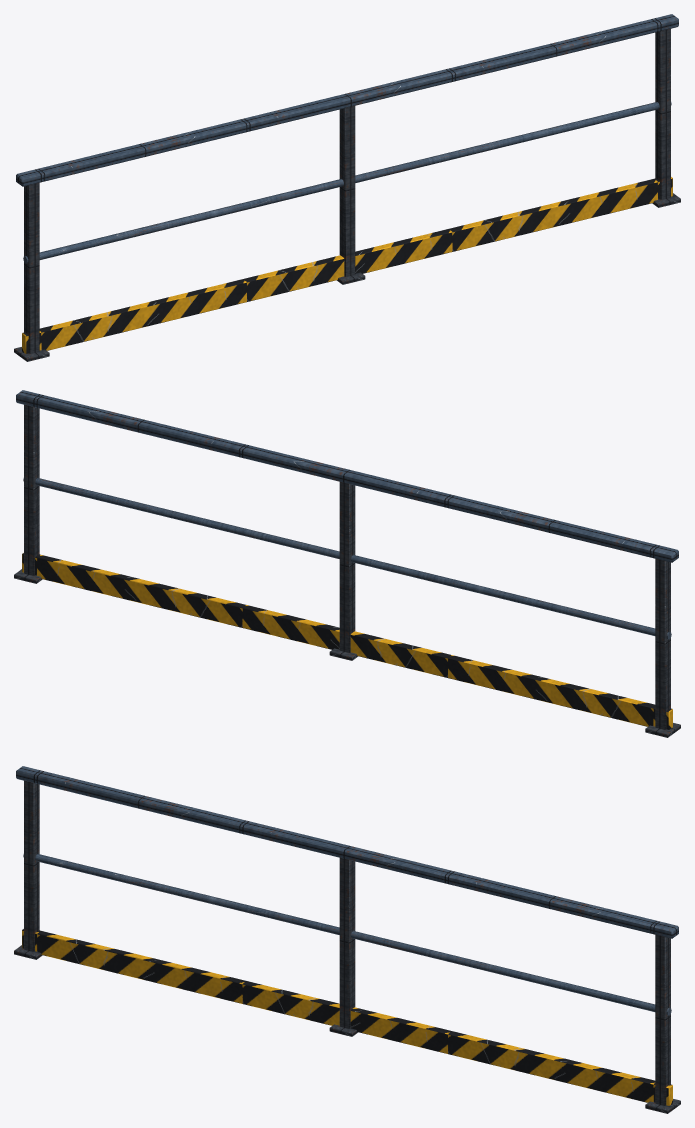
Rendered from metal_safety_rail_4m_pbr.glb.
The picture shows the model from 3 angles, top to bottom: view 1: azimuth 30°, elevation 25°; view 2: azimuth 150°, elevation 25°; view 3: azimuth 330°, elevation 25°; orthographic projection.
Visible parts, largest first — view 1: barandilla_4m; view 2: barandilla_4m; view 3: barandilla_4m.
Boxes of the visible parts, x1,y1,x2,y2 form: barandilla_4m: [14, 14, 680, 361]; barandilla_4m: [14, 390, 680, 737]; barandilla_4m: [14, 766, 680, 1113].
Bounding box in the file's own units: 4 × 1.06 × 0.14.
Materials: 3 (3 with a texture image).
